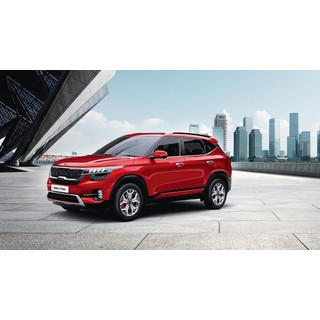car: (44, 132, 232, 221)
